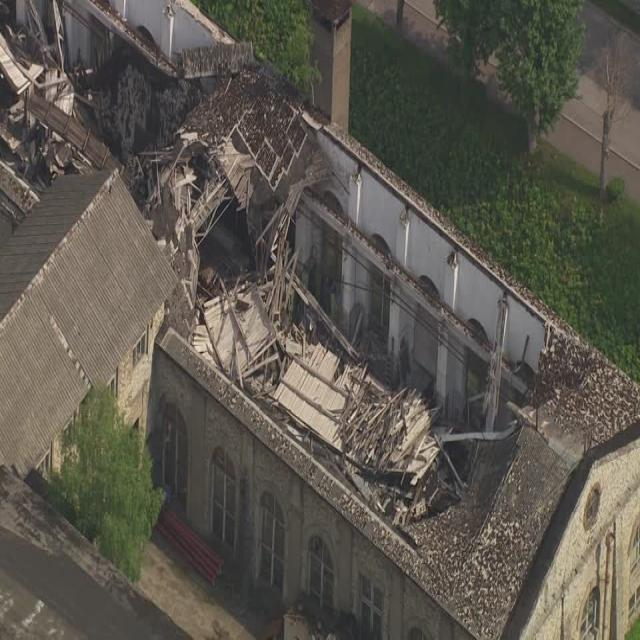collapsed_building: (0, 0, 608, 597)
